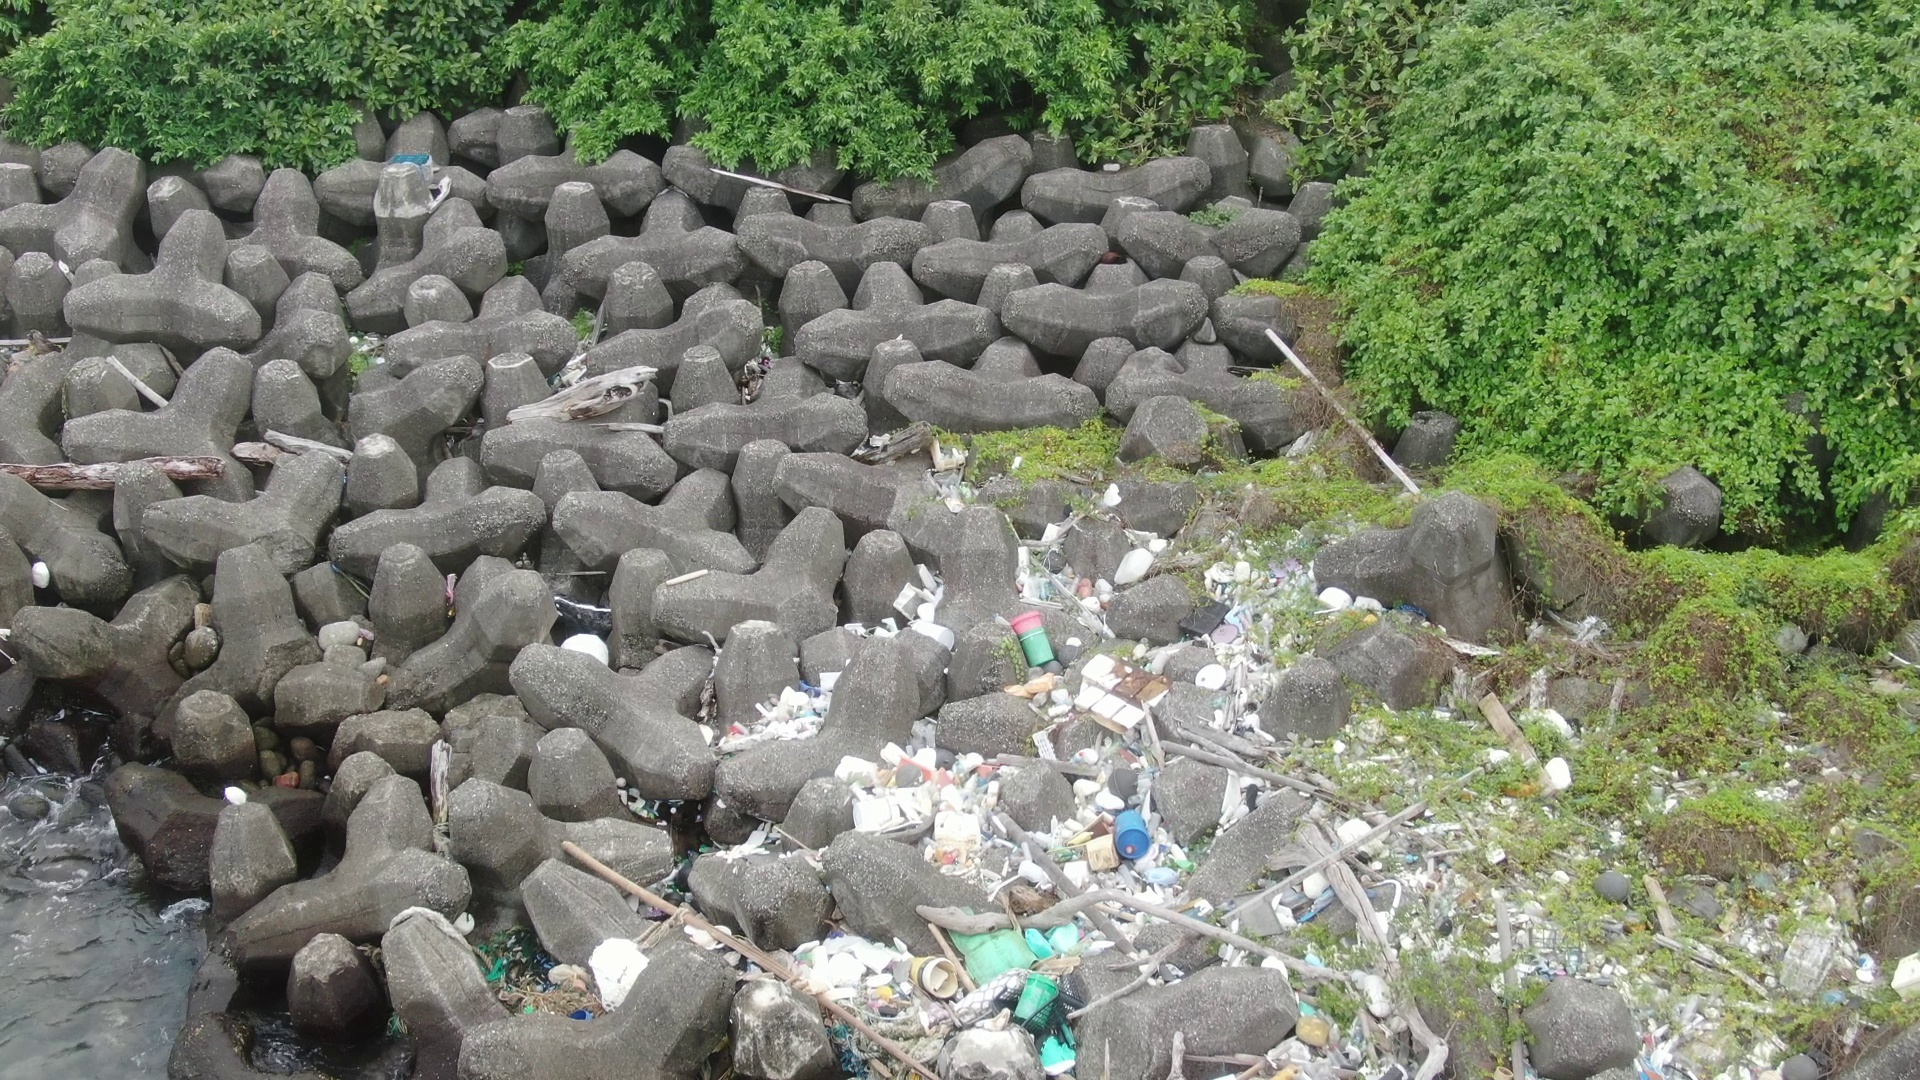garbage: (884, 438, 1377, 690), (721, 676, 1218, 920), (771, 895, 1096, 1080), (1193, 936, 1466, 1080), (1275, 796, 1505, 935), (468, 913, 655, 1027), (1882, 931, 1920, 1026), (382, 142, 444, 177)
